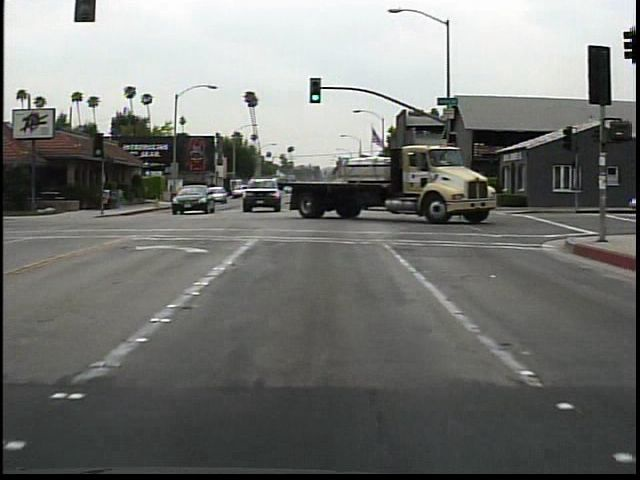person: (181, 182, 197, 206)
